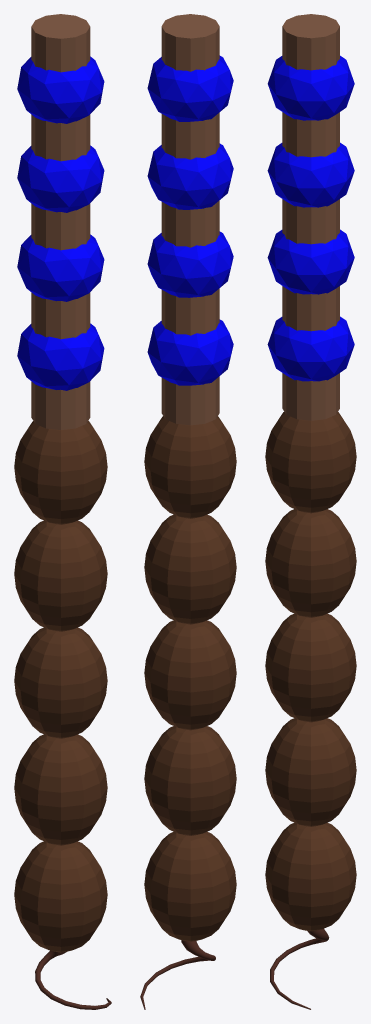
File: Wand 239.glb
3 renders of one model, left to right at view 1: azimuth 30°, elevation 25°; view 2: azimuth 210°, elevation 25°; view 3: azimuth 270°, elevation 25°, orthographic. The views are drawn at different scales.
Visible parts, largest first — view 1: GeneratedWand; view 2: GeneratedWand; view 3: GeneratedWand.
Part boxes in pixels (box(x1,y1,x2,y2)): GeneratedWand: box(14, 14, 111, 1009); GeneratedWand: box(140, 14, 236, 1009); GeneratedWand: box(265, 14, 356, 1009).
Size of the model in its own units: 0.0481 by 0.5218 by 0.0449.
